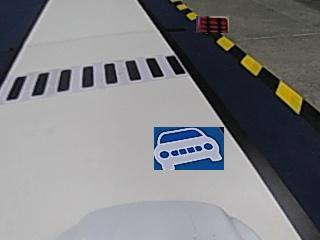crosswalk: (2, 54, 183, 102)
